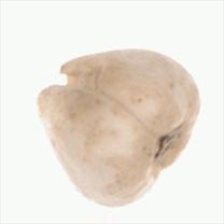L3: (35, 61, 73, 105)
L4: (35, 50, 200, 207)
